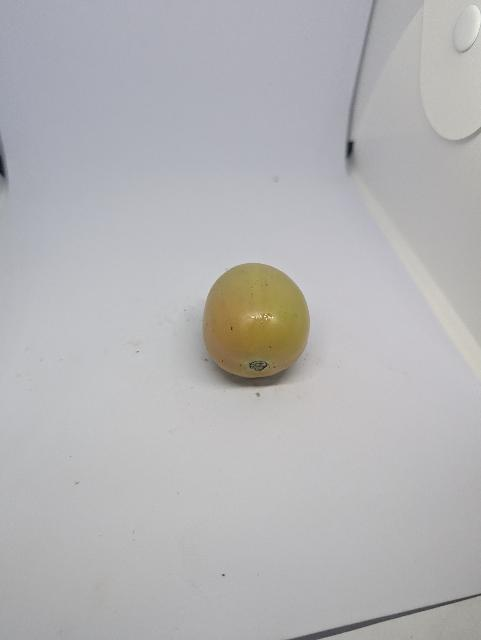breaker: (203, 264, 310, 378)
